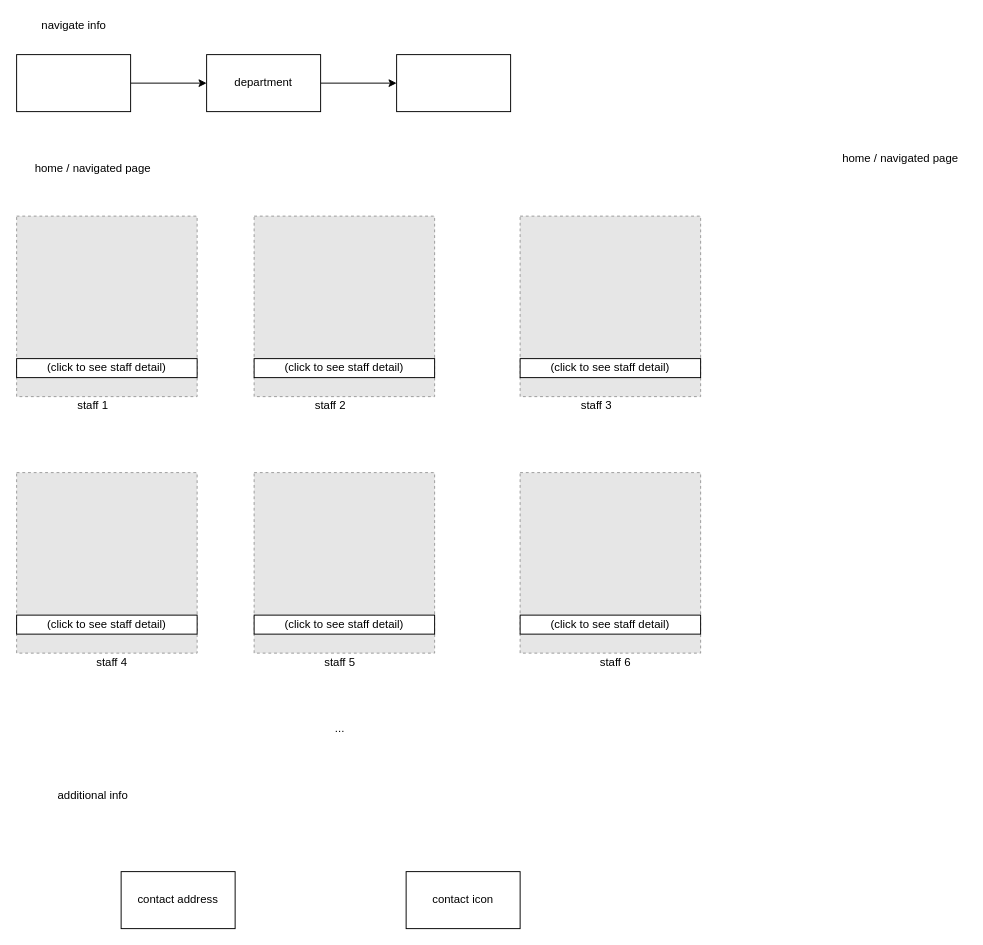
The diagram is 983 pixels wide and 945 high, and some of its shapes have lost their labels. Grey dashed boxes stand in for pictures. Each missing label, with the box of its shape:
home: (16, 54, 131, 112)
salary: (396, 54, 511, 112)
